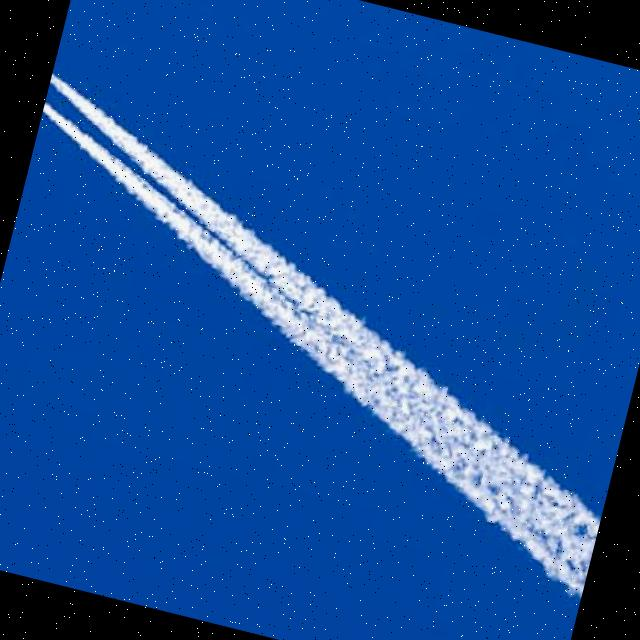Ct: (1, 1, 640, 576)
